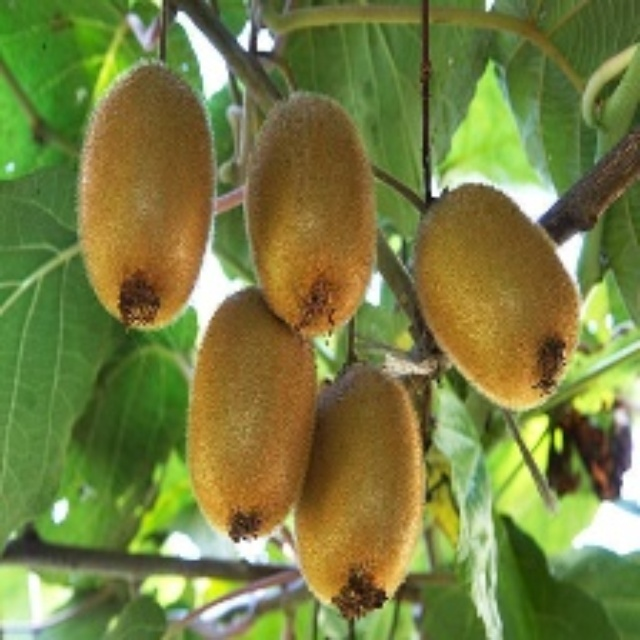kiwi: (67, 53, 228, 341), (417, 191, 587, 424), (240, 86, 390, 334), (190, 300, 328, 555), (299, 367, 428, 612)
